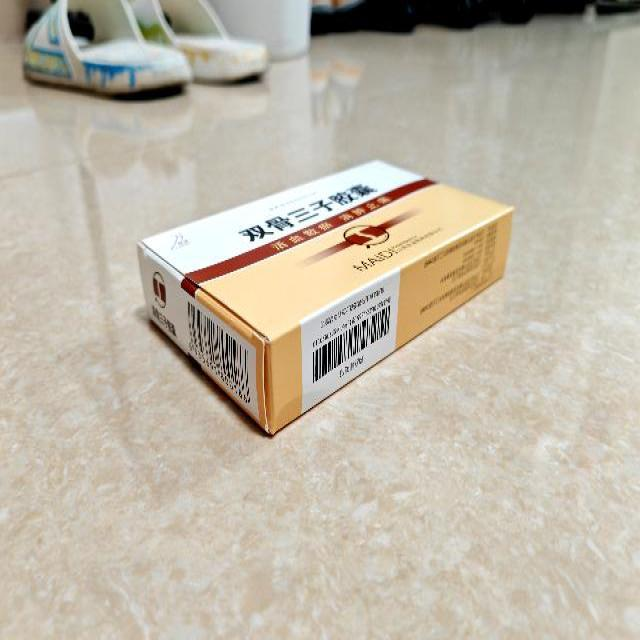box: (137, 160, 515, 438)
